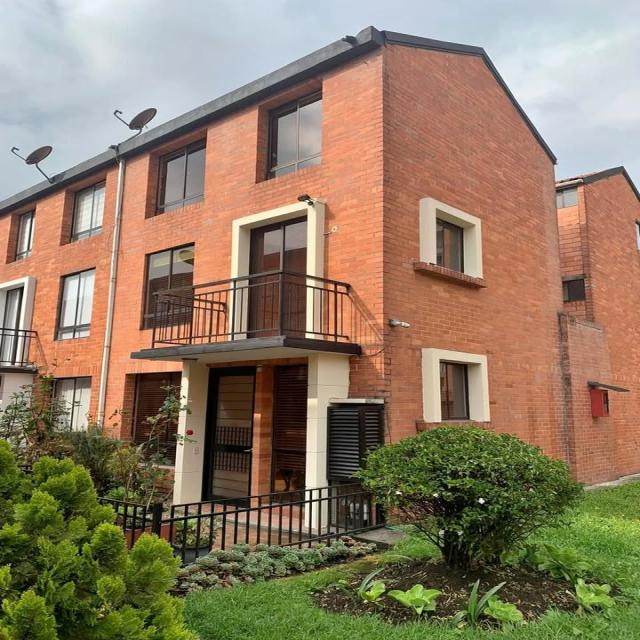Fachada: (0, 27, 639, 501)
